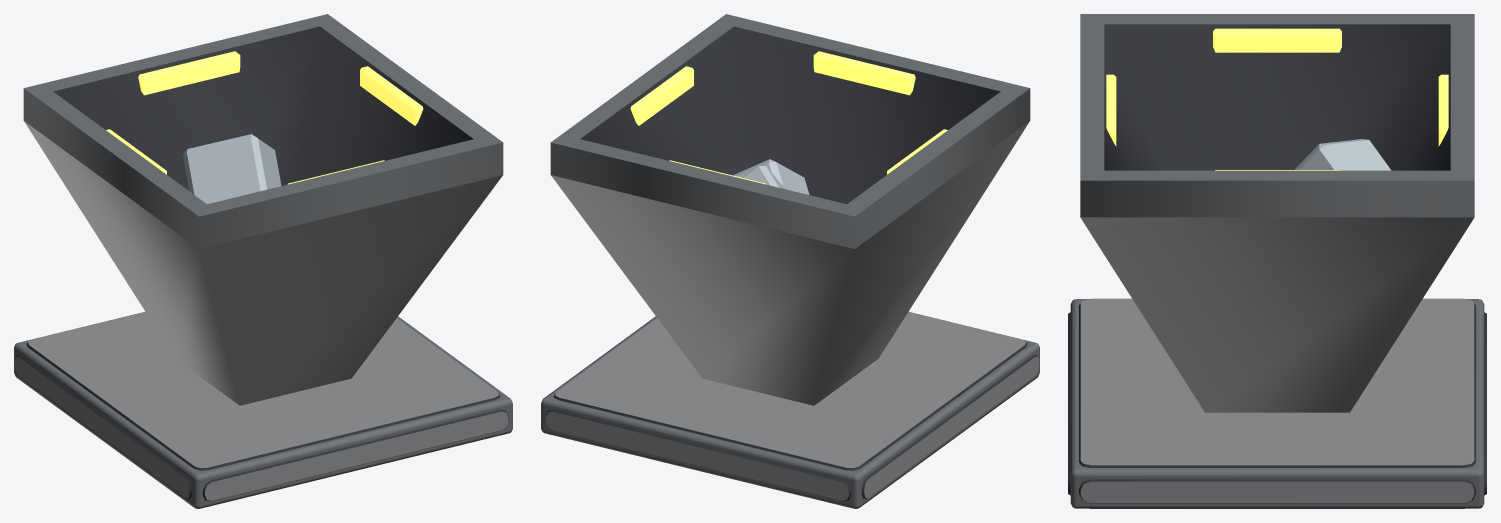
The model's file is R4X_SalvageOptimizer.glb.
3 views of the same model, side by side, from view 1: azimuth 30°, elevation 25°; view 2: azimuth 150°, elevation 25°; view 3: azimuth 270°, elevation 25° (orthographic). The views are drawn at different scales.
Parts seen in each view (by area): view 1: R4X_SalvageOptimizer_Body; view 2: R4X_SalvageOptimizer_Body; view 3: R4X_SalvageOptimizer_Body.
Part boxes in pixels (<box>): R4X_SalvageOptimizer_Body: <box>14,14,512,508</box>; R4X_SalvageOptimizer_Body: <box>541,14,1039,508</box>; R4X_SalvageOptimizer_Body: <box>1068,14,1486,508</box>.
Size of the model in its own units: 0.52 by 0.45 by 0.52.
